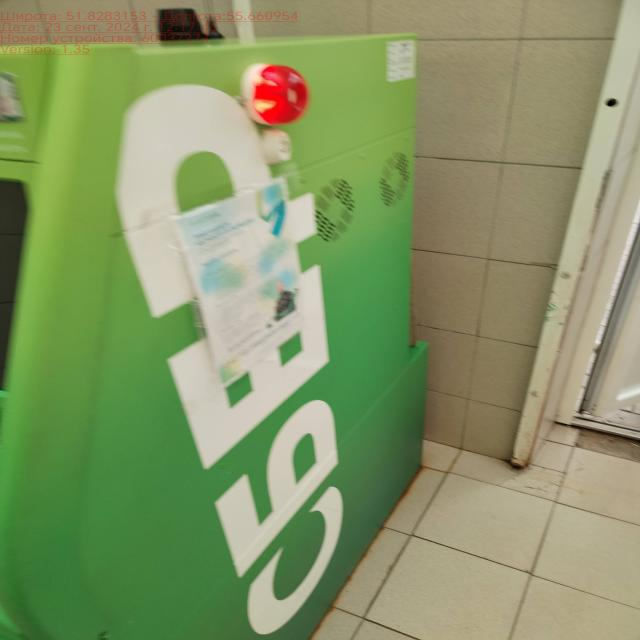bank: (0, 33, 438, 640)
